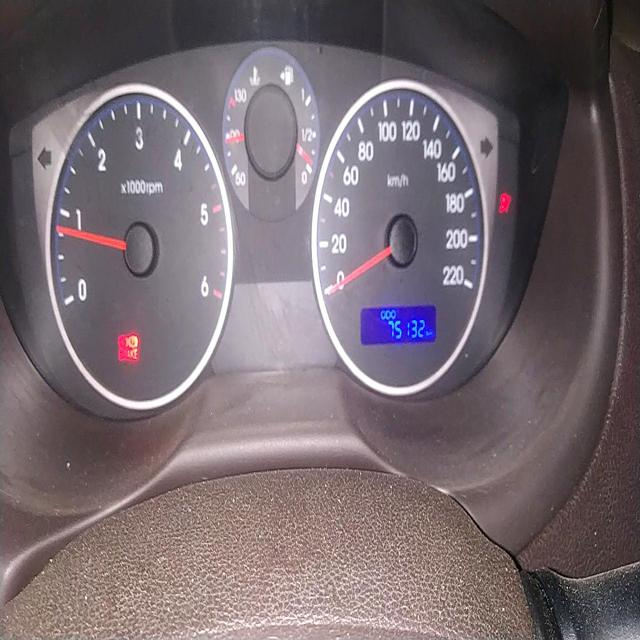odometer: (386, 312, 431, 340)
